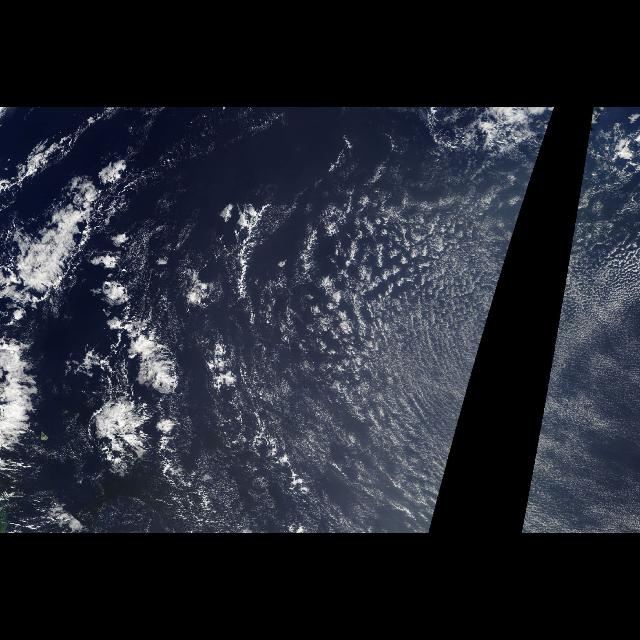Sugar: (302, 194, 526, 532), (522, 194, 640, 532)
